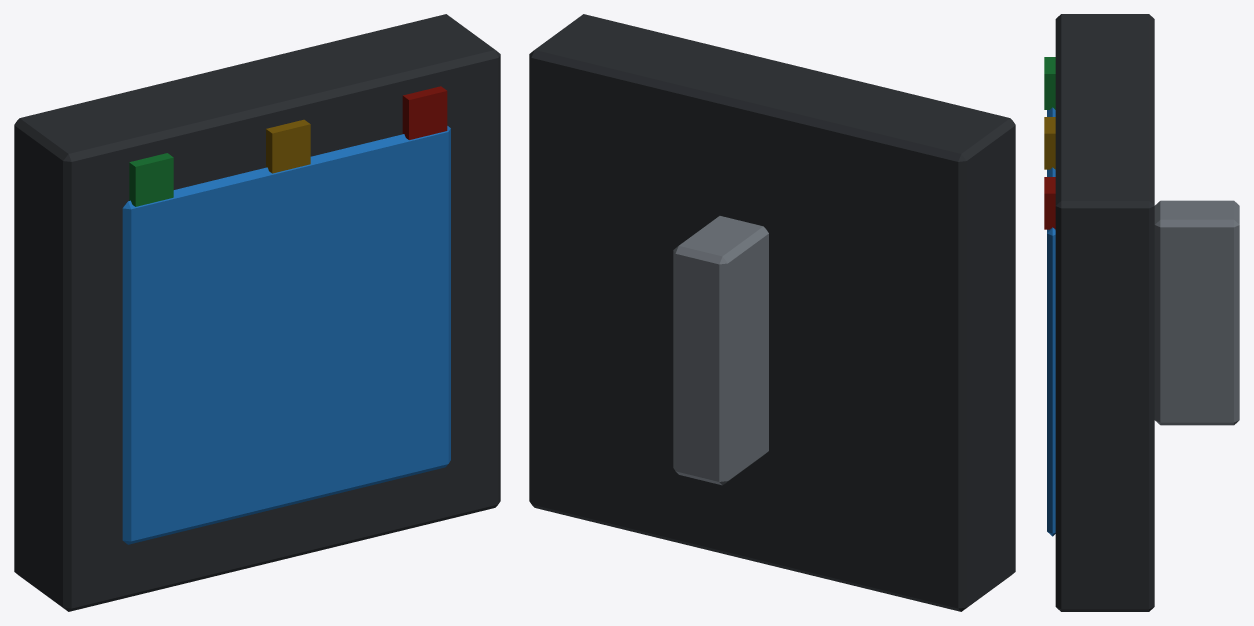
The model's file is rfid_reader.glb.
3 renders of one model, left to right at view 1: azimuth 30°, elevation 25°; view 2: azimuth 150°, elevation 25°; view 3: azimuth 270°, elevation 25°, orthographic. The views are drawn at different scales.
Parts seen in each view (by area): view 1: Reader_Static, Led_Error, Led_Busy, Led_Read; view 2: Reader_Static; view 3: Reader_Static, Led_Busy, Led_Read, Led_Error.
Boxes of the visible parts, bbox=[...] form: Reader_Static: bbox=[14, 14, 500, 611]; Led_Error: bbox=[402, 86, 447, 139]; Led_Busy: bbox=[266, 119, 310, 173]; Led_Read: bbox=[129, 153, 173, 206]; Reader_Static: bbox=[529, 14, 1015, 611]; Reader_Static: bbox=[1047, 14, 1239, 611]; Led_Busy: bbox=[1044, 117, 1055, 169]; Led_Read: bbox=[1044, 57, 1055, 109]; Led_Error: bbox=[1044, 177, 1055, 229].
Size of the model in its own units: 0.16 by 0.16 by 0.069.
